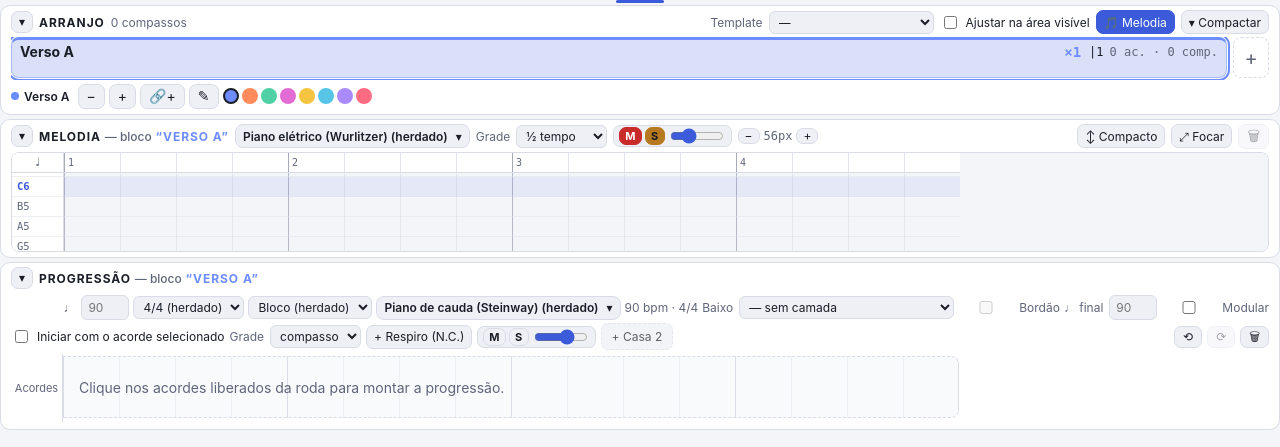
Painéis recolhíveis, modo compacto da melodia e popover em portal › Arranjo, Melodia e Progressão recolhem e expandem individualmente no Dock
The width and height of the screenshot is (1280, 447).
(page scrolled)
Expected: the list with class "lane" is shown, x1=11 y1=37 x2=1269 y2=80
Expected: the element with class "melody-scroll" is shown, x1=11 y1=152 x2=1269 y2=252
Note: Recolher Arranjo
What coordinates should you click on to do the following:
click the button named "Recolher Arranjo"
I would click on:
 (22, 22)
Its box is x1=11 y1=11 x2=33 y2=33.
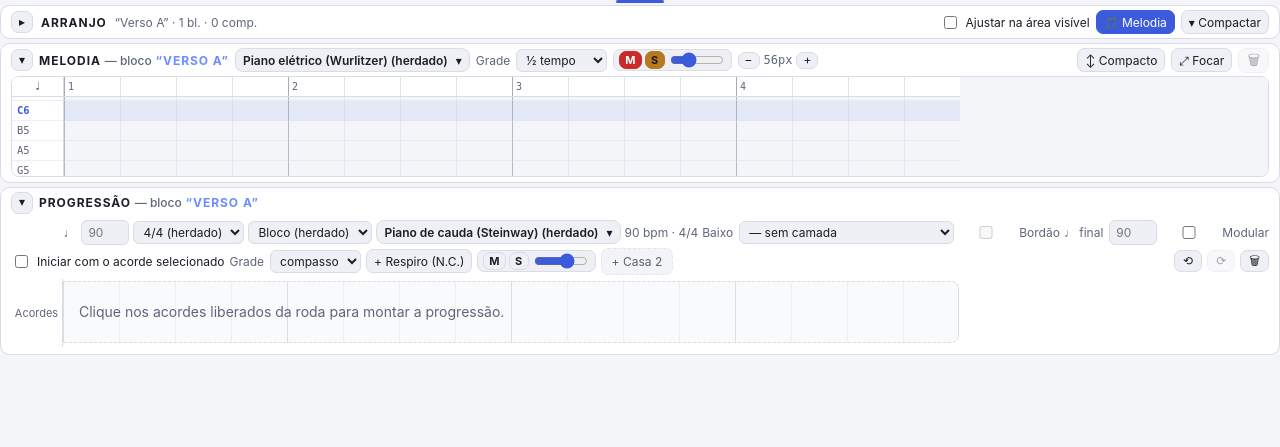
Expected: the element with class "melody-scroll" is shown, x1=11 y1=76 x2=1269 y2=177
Result: the element with class "arrangement" is shown at x1=0 y1=5 x2=1279 y2=39
Result: the list with class "lane" is gone
Note: Recolher Melodia
What coordinates should you click on to do the following:
click the button named "Recolher Melodia"
I would click on:
 (22, 60)
Its box is x1=11 y1=49 x2=33 y2=71.
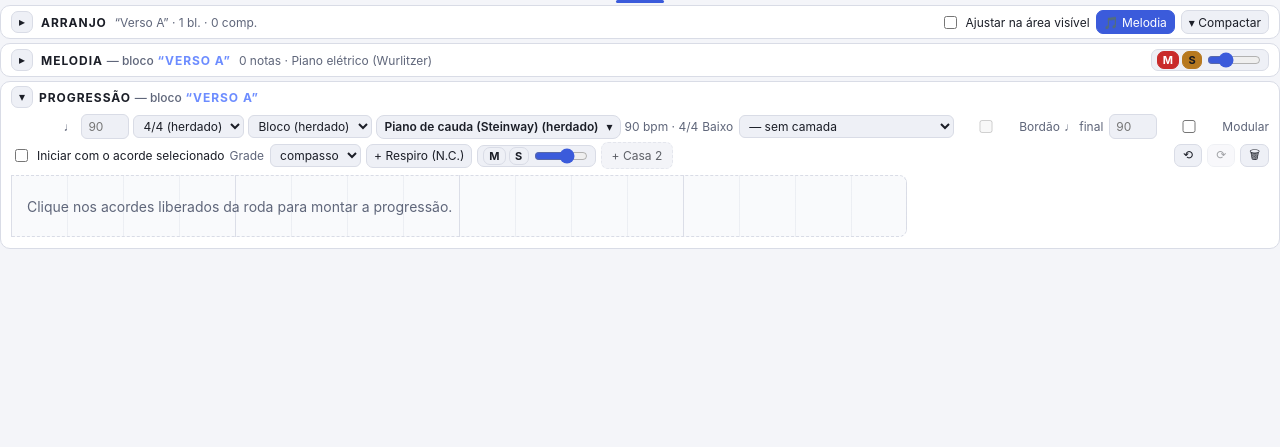
Result: the element with class "melody-track" is shown at x1=0 y1=43 x2=1279 y2=77
Result: the element with class "melody-scroll" is gone
Result: the text with class "timeline-gutter" is gone
Note: Recolher Progressão
What coordinates should you click on to do the following:
click the button named "Recolher Progressão"
I would click on:
 (22, 97)
Its box is x1=11 y1=86 x2=33 y2=108.
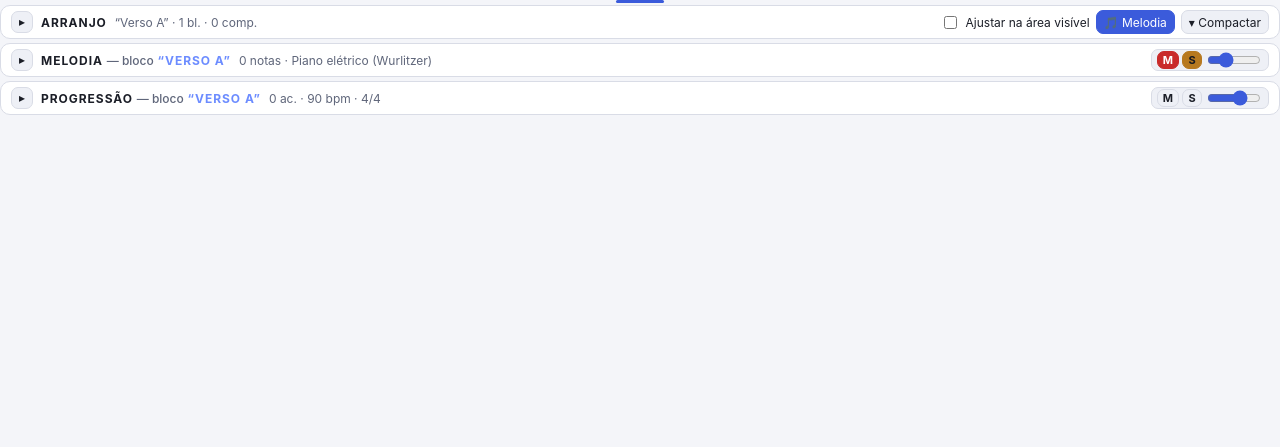
Result: the element showing "▸ Progressão — bloco “Verso A” 0 ac. · 90 bpm · 4/4 M S" is shown at x1=0 y1=81 x2=1279 y2=115
Result: the element with class "timeline-scroll" is gone
Note: Expandir novamente os três painéis individualmente
What coordinates should you click on to do the following:
click the button named "Expandir Arranjo"
I would click on:
 (22, 22)
Its box is x1=11 y1=11 x2=33 y2=33.
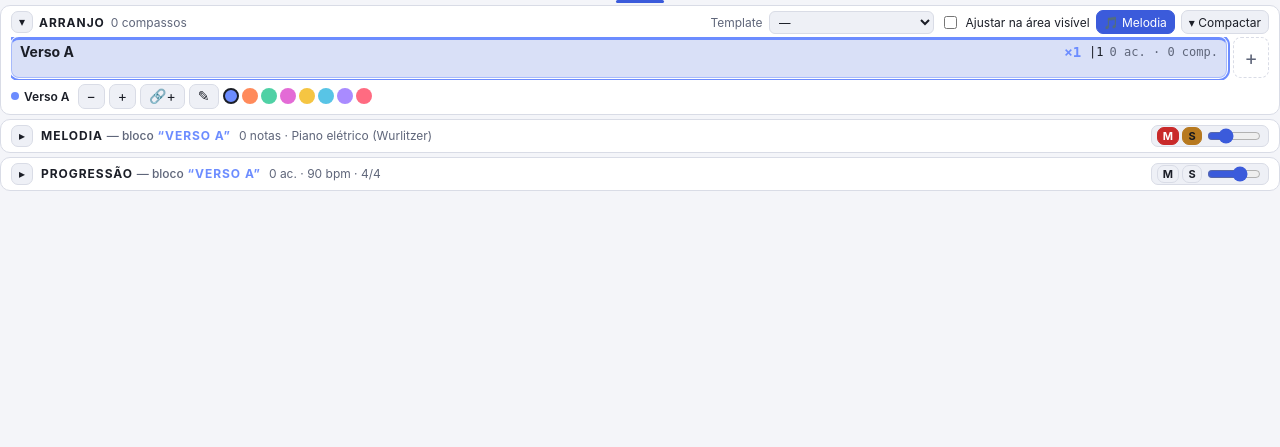
What coordinates should you click on to do the following:
click the button named "Expandir Melodia"
I would click on:
 (22, 136)
Its box is x1=11 y1=125 x2=33 y2=147.
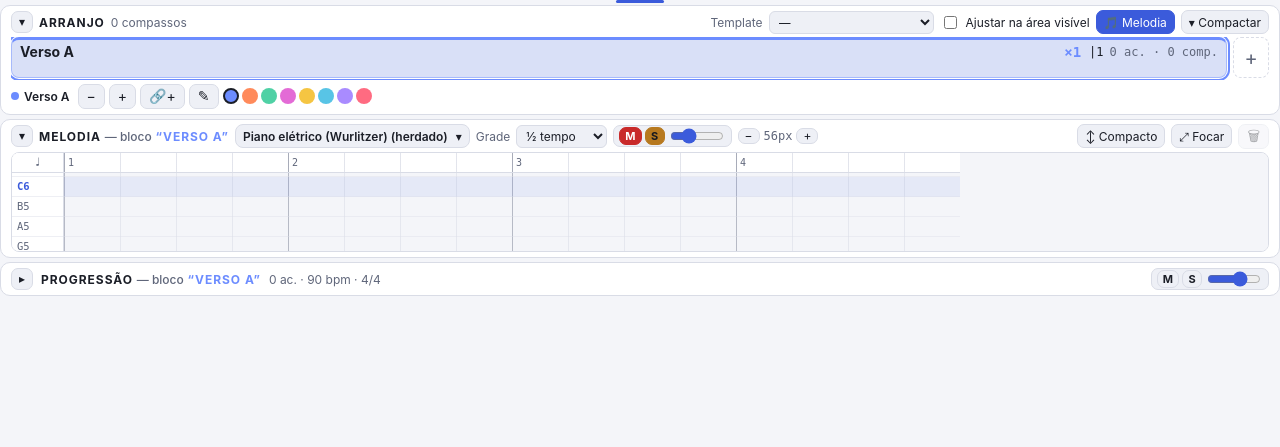
What coordinates should you click on to do the following:
click the button named "Expandir Progressão"
I would click on:
 (22, 279)
Its box is x1=11 y1=268 x2=33 y2=290.
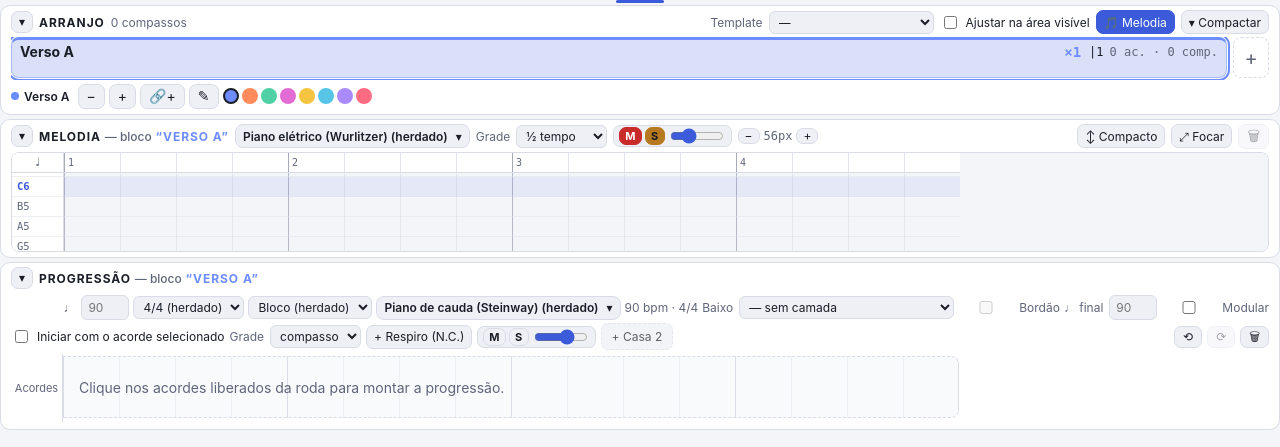
Result: the list with class "lane" is shown at x1=11 y1=37 x2=1269 y2=80
Result: the element with class "melody-scroll" is shown at x1=11 y1=152 x2=1269 y2=252
Result: the element with class "timeline-scroll" is shown at x1=11 y1=354 x2=959 y2=422
